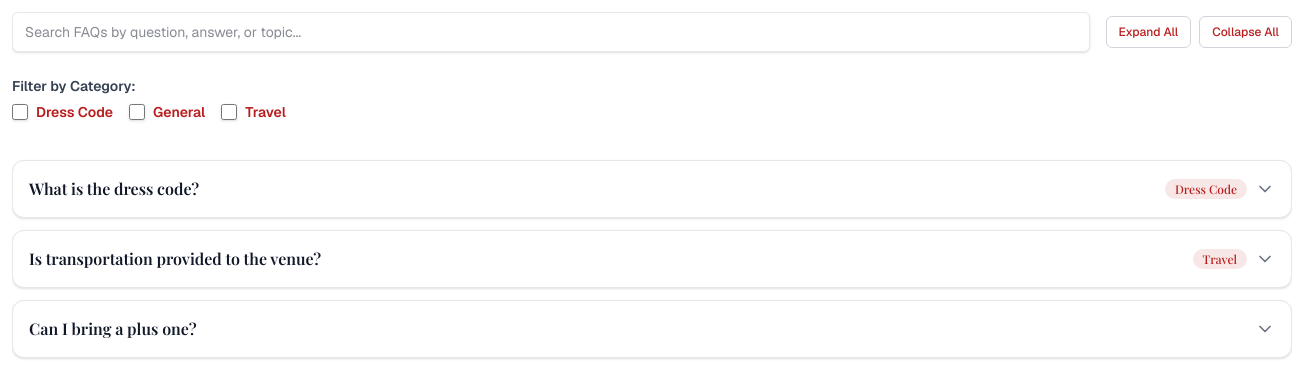
Scenario: FaqAccordion Component › filters visible FAQ items when category pills are toggled
Toggle Dress Code category checkbox
Click the checkbox labelled "Dress Code". click: (20, 112)
box: x1=12 y1=104 x2=28 y2=120
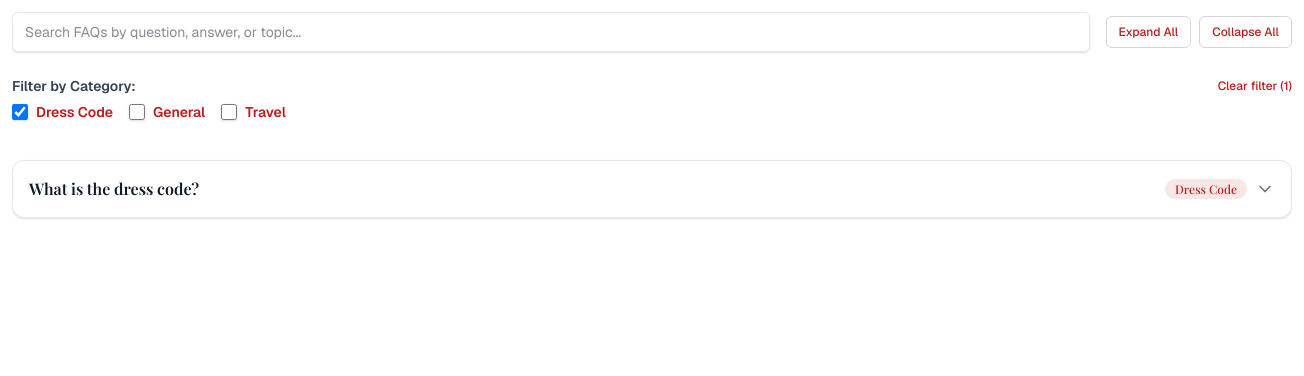
Expected: the text "What is the dress code?" is shown, x1=29 y1=178 x2=199 y2=199
Expected: the button "transportation provided" is gone
Expected: the button "plus one?" is gone
